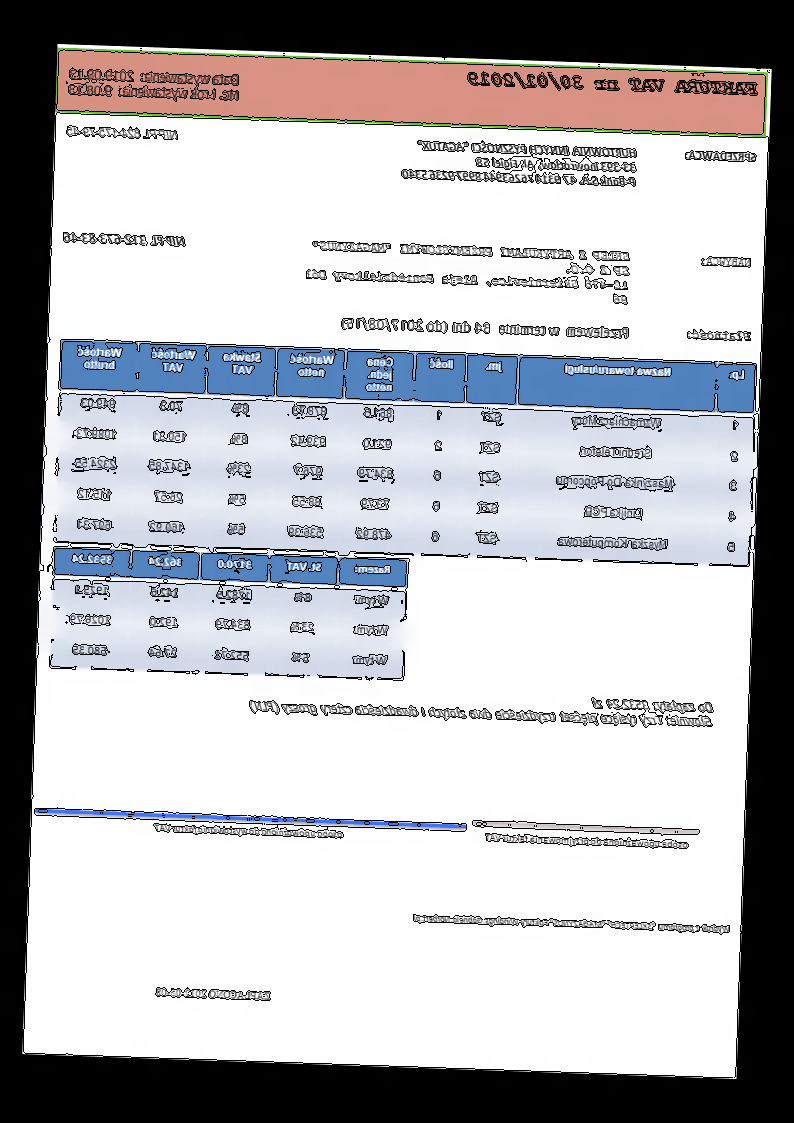Table: (53, 338, 758, 568), (48, 545, 409, 680), (248, 683, 715, 732)
TextBox: (302, 237, 634, 307), (400, 138, 639, 189), (467, 67, 761, 100), (411, 911, 733, 937), (340, 315, 631, 341), (67, 65, 243, 103), (483, 832, 692, 851), (152, 822, 345, 841), (61, 230, 189, 249), (65, 124, 181, 143), (155, 985, 272, 1002), (684, 148, 759, 165), (686, 326, 753, 344), (699, 254, 754, 268)
